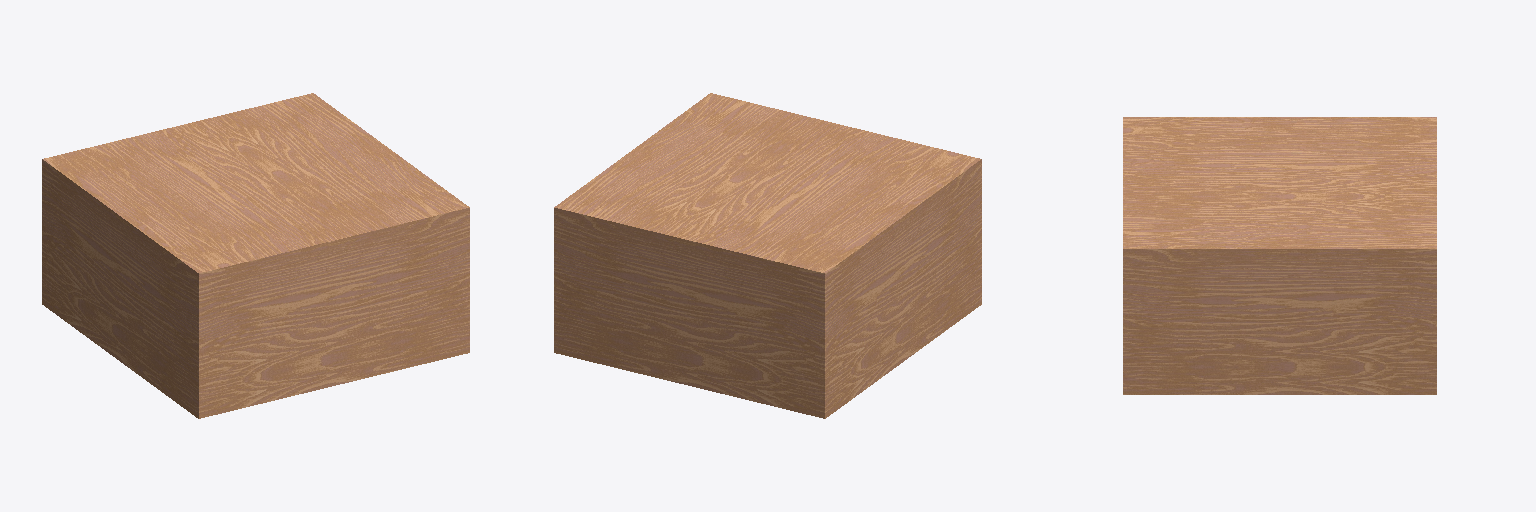
The picture shows the model from 3 angles: view 1: azimuth 30°, elevation 25°; view 2: azimuth 150°, elevation 25°; view 3: azimuth 270°, elevation 25°; orthographic projection.
Parts seen in each view (by area): view 1: base_link; view 2: base_link; view 3: base_link.
Part boxes in pixels (bbox=[...]): base_link: bbox=[42, 93, 469, 418]; base_link: bbox=[554, 93, 981, 418]; base_link: bbox=[1123, 117, 1436, 394].
Size of the model in its own units: 0.4002 by 0.205 by 0.4.
1 materials, 1 textured.